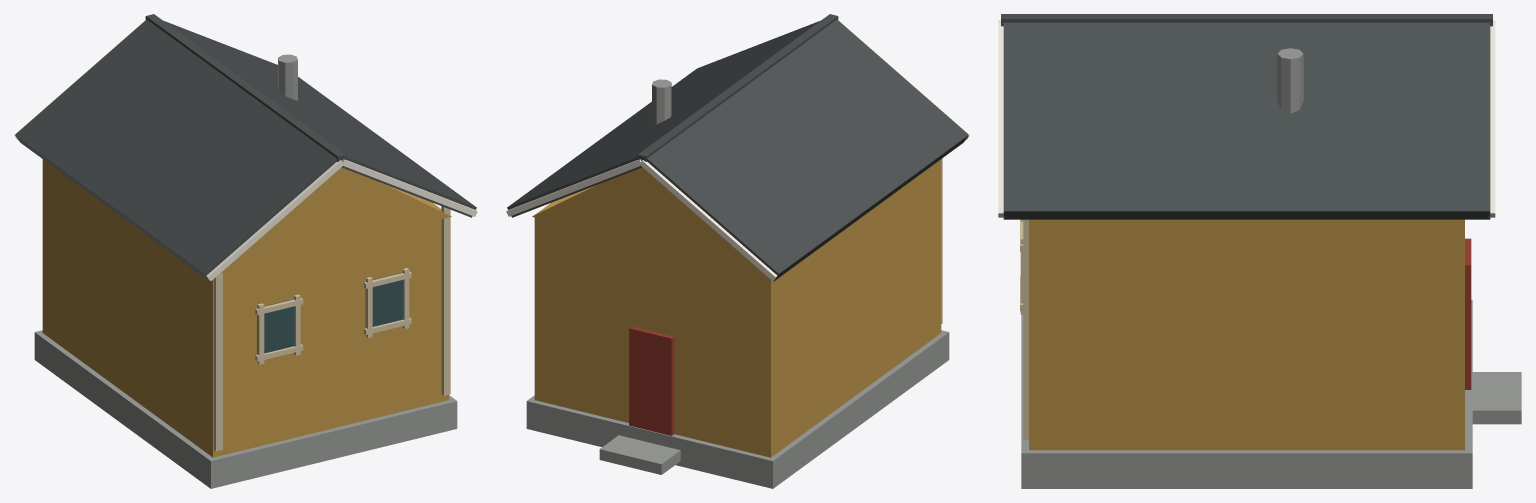
Rendered from norway-house-ochre-cream_lod0.glb.
3 renders of one model, left to right at view 1: azimuth 30°, elevation 25°; view 2: azimuth 150°, elevation 25°; view 3: azimuth 270°, elevation 25°, orthographic. The views are drawn at different scales.
Parts seen in each view (by area): view 1: RF_House_Walls, RF_House_RoofA, RF_House_Foundation, RF_House_Gables, RF_House_RoofB, RF_House_RidgeCap, RF_House_Corner.001, RF_House_Corner, RF_House_VergeLeftFront, RF_House_WindowRecess.001, RF_House_WindowRecess, RF_House_VergeRightFront (+1 smaller); view 2: RF_House_Walls, RF_House_RoofA, RF_House_Foundation, RF_House_Gables, RF_House_RoofB, RF_House_Door, RF_House_RidgeCap, RF_House_Threshold, RF_House_VergeLeftRear, RF_House_VergeRightRear, RF_House_Chimney; view 3: RF_House_Walls, RF_House_RoofB, RF_House_Foundation, RF_House_RidgeCap, RF_House_Threshold, RF_House_Chimney, RF_House_Corner.001, RF_House_VergeRightFront, RF_House_VergeRightRear, RF_House_Door.
Boxes of the visible parts, box(x1,y1,x2,y2) form: RF_House_Walls: box(42, 159, 449, 457); RF_House_RoofA: box(15, 19, 336, 281); RF_House_Foundation: box(34, 330, 457, 488); RF_House_Gables: box(221, 167, 451, 272); RF_House_RoofB: box(163, 20, 476, 217); RF_House_RidgeCap: box(145, 14, 346, 161); RF_House_Corner.001: box(441, 206, 450, 395); RF_House_Corner: box(214, 272, 222, 451); RF_House_VergeLeftFront: box(206, 160, 343, 280); RF_House_WindowRecess.001: box(365, 272, 403, 327); RF_House_WindowRecess: box(257, 299, 294, 354); RF_House_VergeRightFront: box(342, 159, 477, 216); RF_House_Walls: box(534, 159, 941, 457); RF_House_RoofA: box(647, 19, 968, 281); RF_House_Foundation: box(526, 330, 949, 488); RF_House_Gables: box(532, 167, 762, 272); RF_House_RoofB: box(507, 20, 820, 217); RF_House_Door: box(629, 326, 674, 435); RF_House_RidgeCap: box(637, 14, 838, 161); RF_House_Threshold: box(599, 435, 680, 474); RF_House_VergeLeftRear: box(639, 160, 777, 280); RF_House_VergeRightRear: box(506, 159, 641, 216); RF_House_Chimney: box(652, 79, 671, 125); RF_House_Walls: box(1029, 219, 1464, 450); RF_House_RoofB: box(1003, 22, 1490, 219); RF_House_Foundation: box(1021, 299, 1472, 488); RF_House_RidgeCap: box(1001, 14, 1492, 26); RF_House_Threshold: box(1472, 372, 1521, 424); RF_House_Chimney: box(1277, 48, 1303, 113); RF_House_Corner.001: box(1023, 219, 1028, 439); RF_House_VergeRightFront: box(998, 22, 1005, 217); RF_House_VergeRightRear: box(1488, 22, 1495, 217); RF_House_Door: box(1465, 238, 1471, 389).
Size of the model in its own units: 9.22 by 10.01 by 12.
